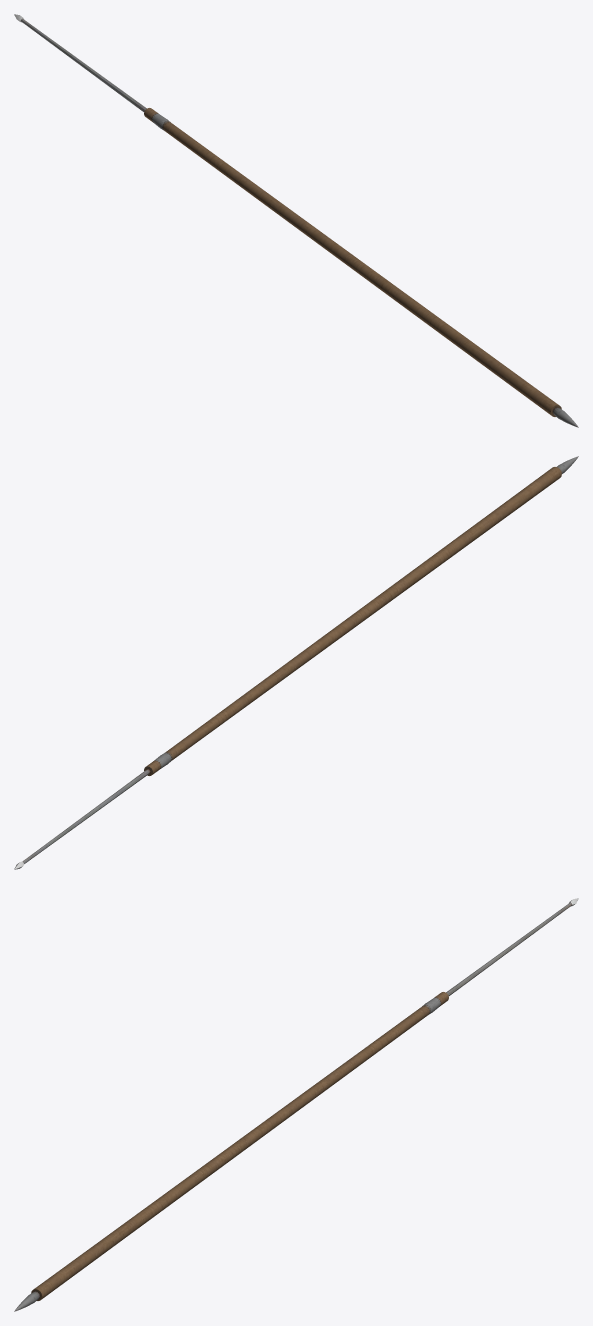
The model's file is pilum.glb.
The picture shows the model from 3 angles, top to bottom: view 1: azimuth 30°, elevation 25°; view 2: azimuth 150°, elevation 25°; view 3: azimuth 330°, elevation 25°; orthographic projection.
Visible parts, largest first — view 1: pilum; view 2: pilum; view 3: pilum.
Boxes of the visible parts, x1,y1,x2,y2 form: pilum: (14, 14, 578, 427); pilum: (14, 456, 578, 869); pilum: (14, 898, 578, 1311).
Size of the model in its own units: 0.031 by 0.0302 by 2.69.
1 material, 1 textured.
